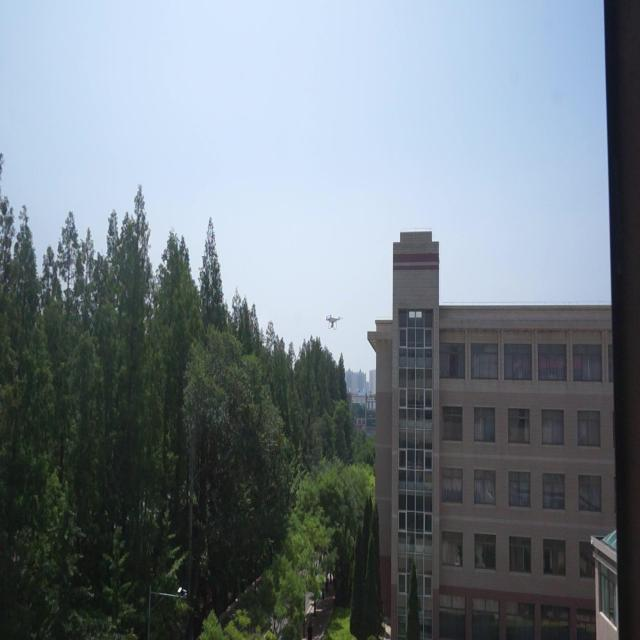drone: (324, 310, 342, 331)
